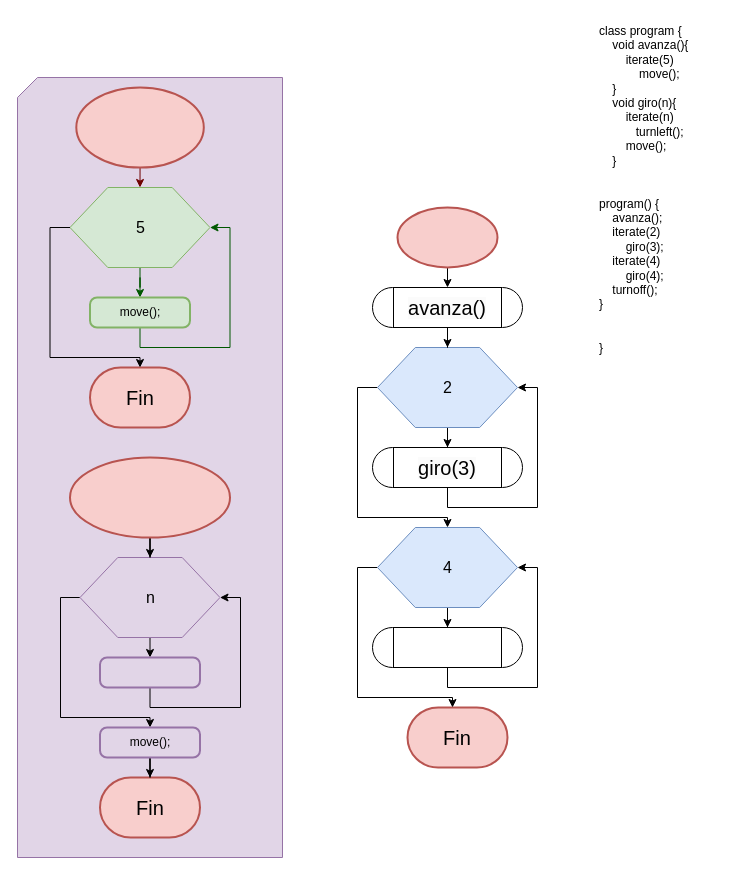
Image size: 735x875. Some labels were removed from this diagram. Each missing label, with the centre of its shape:
"giro()" goes at (x=447, y=647).
"Inicio" goes at (x=447, y=237).
"Inicio(avanza)" goes at (x=139, y=127).
"Inicio(giro(n))" goes at (x=149, y=497).
"turnleft();" goes at (x=149, y=672).
